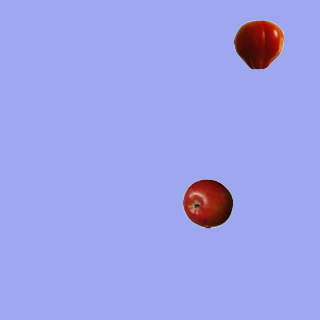Apple Braeburn: (182, 178, 232, 228)
Tomato 1: (233, 19, 283, 69)
